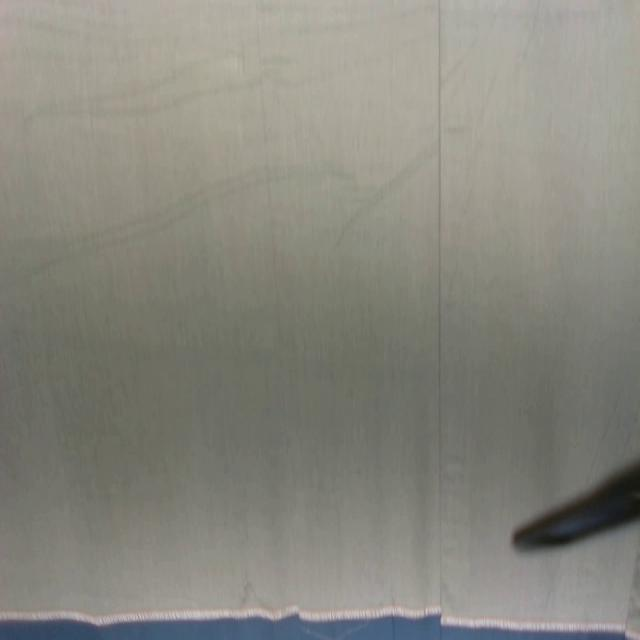crease: (256, 15, 283, 358), (434, 0, 444, 635)
